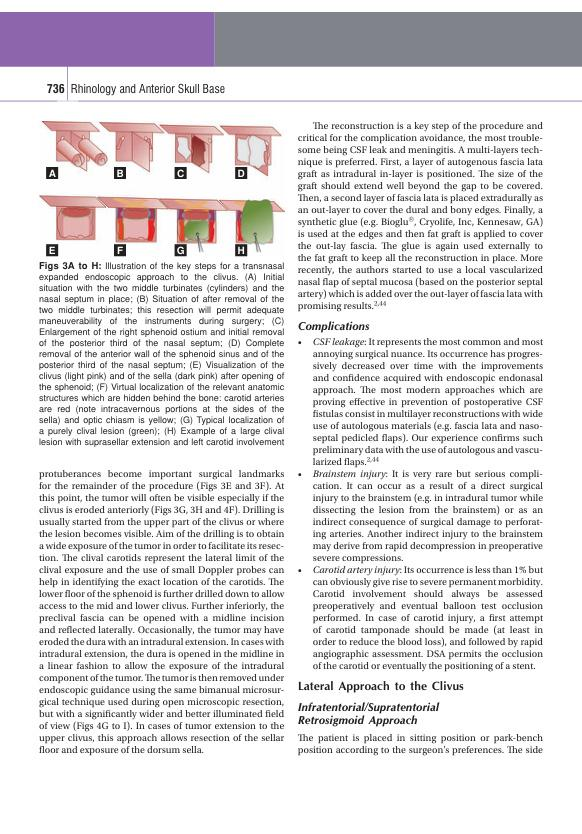caption: (37, 261, 286, 448), (47, 167, 57, 178), (176, 245, 186, 256), (176, 168, 185, 179), (237, 168, 246, 179), (237, 245, 246, 256), (116, 244, 124, 256), (48, 245, 57, 255), (116, 168, 124, 178)
header: (69, 82, 226, 97)
image: (36, 189, 289, 259), (38, 117, 286, 186)
section-heading: (297, 679, 465, 694)
sub-section-heading: (296, 701, 442, 728), (297, 319, 371, 334)
text: (297, 336, 544, 673), (37, 468, 287, 758), (296, 119, 545, 313), (296, 732, 545, 757)
